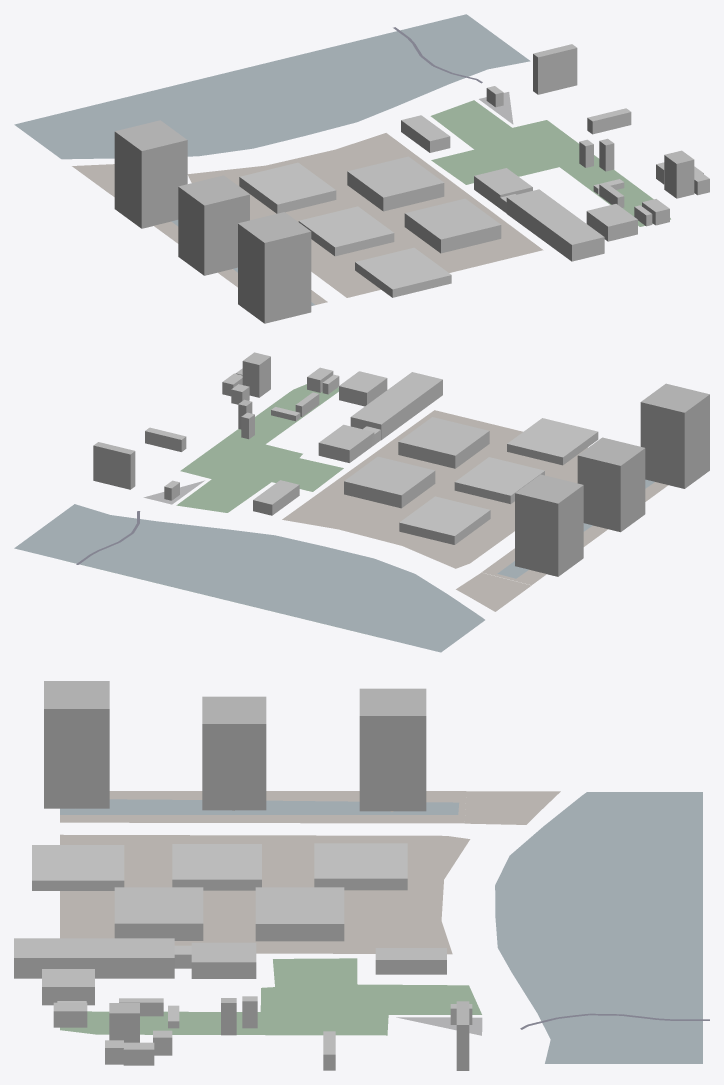
Rendered from 121_74_mid.glb.
The picture shows the model from 3 angles, top to bottom: view 1: azimuth 30°, elevation 25°; view 2: azimuth 150°, elevation 25°; view 3: azimuth 270°, elevation 25°; orthographic projection. The views are drawn at different scales.
Size of the model in its own units: 531 by 86.89 by 541.
